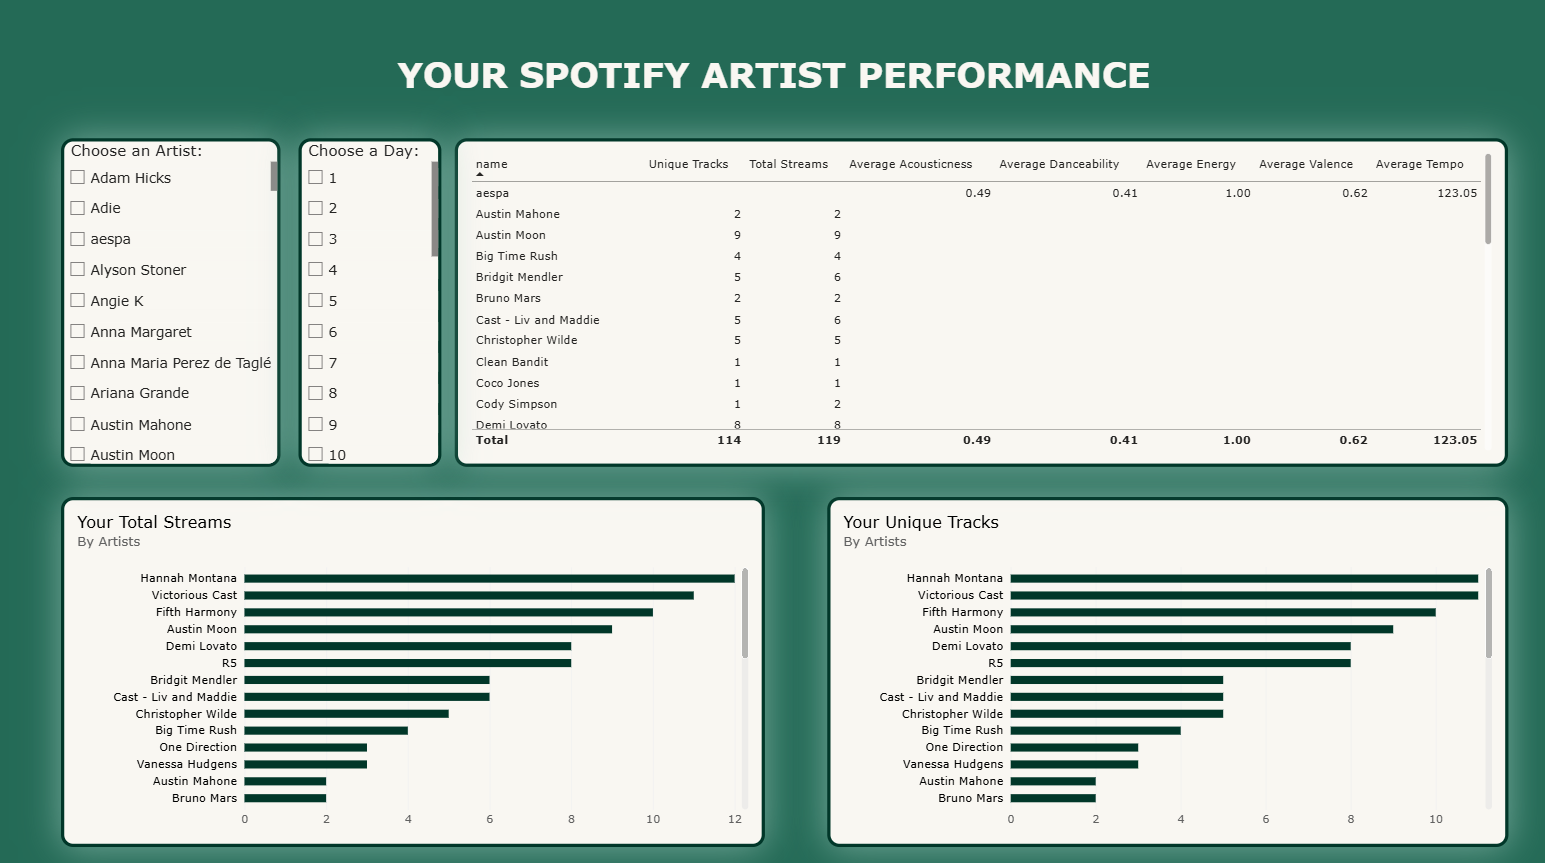

This screenshot's page, from the dashboard's own definition file:
{"tool":"powerbi","page":{"name":"Artist Performance","canvas":[1920,1080],"ordinal":1},"visuals":[{"type":"textbox","box":[395.9,69.8,1125,73.3],"z":0},{"type":"barChart","title":"Your Total Streams","fields":{"Category":["public artists.name"],"Y":["public listening_history.Total Streams"]},"box":[80.2,615.7,866.9,430.8],"z":1000},{"type":"barChart","title":"Your Unique Tracks","fields":{"Category":["public artists.name"],"Y":["public albums.Unique Tracks"]},"box":[1023.8,615.7,839,430.8],"z":2000},{"type":"tableEx","fields":{"Values":["public artists.name","public albums.Unique Tracks","public listening_history.Total Streams","public albums.Average Acousticness","public albums.Average Danceability","public albums.Average Energy","public albums.Average Valence","public albums.Average Tempo"]},"box":[565.1,174.4,1297.7,404.7],"z":3000},{"type":"slicer","fields":{"Values":["public artists.name"]},"box":[80.2,174.4,270.3,404.7],"z":4000},{"type":"slicer","fields":{"Values":["public listening_history.played_at.Variation.Date Hierarchy.Day"]},"box":[373.3,174.4,176.2,404.7],"z":5000}]}

Visuals, with their boxes in screenshot pixels (x1, y1, x2, y2), scaled from the page's 1920x1080 canvas onto the 1545x863 screenshot:
textbox: BBox(319, 56, 1224, 114)
"Your Total Streams" barChart: BBox(65, 492, 762, 836)
"Your Unique Tracks" barChart: BBox(824, 492, 1499, 836)
tableEx - public artists.name x public albums.Unique Tracks: BBox(455, 139, 1499, 463)
slicer - public artists.name: BBox(65, 139, 282, 463)
slicer - public listening_history.played_at.Variation.Date Hierarchy.Day: BBox(300, 139, 442, 463)
